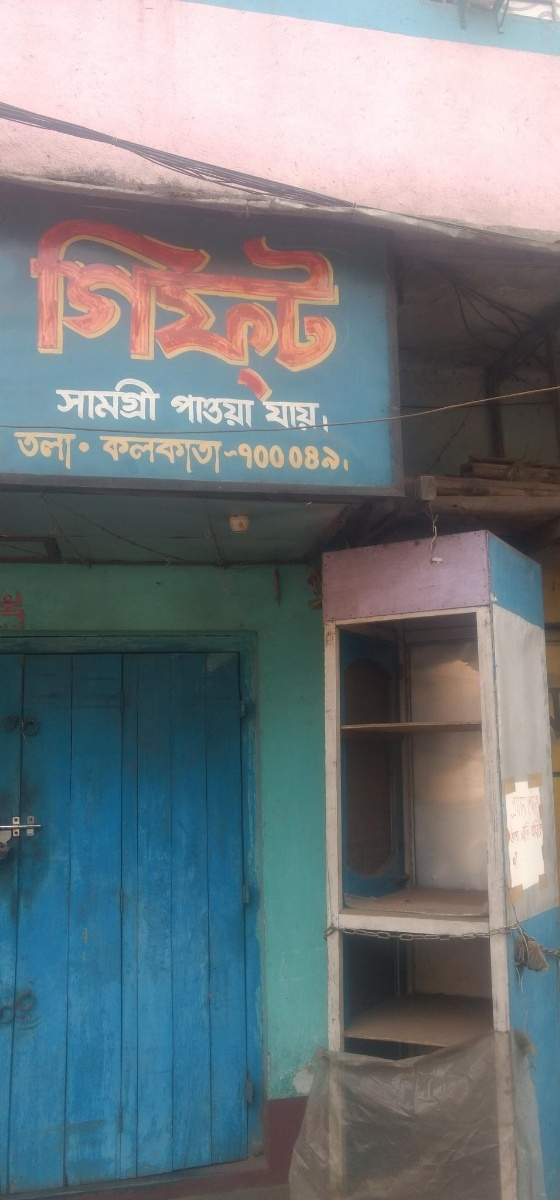text: (33, 211, 48, 410), (49, 211, 64, 410), (65, 211, 80, 410), (81, 211, 96, 410), (97, 211, 112, 410), (113, 211, 128, 410), (129, 211, 144, 410), (145, 211, 160, 410), (161, 211, 176, 410), (177, 211, 192, 410), (193, 211, 208, 410), (209, 211, 224, 410), (225, 211, 240, 410), (241, 211, 256, 410), (257, 211, 272, 410), (273, 211, 288, 410), (289, 211, 304, 410), (305, 211, 320, 410), (321, 211, 336, 410), (337, 211, 345, 410), (529, 792, 545, 878), (513, 792, 528, 878), (26, 211, 32, 410), (65, 373, 80, 427), (81, 373, 96, 427), (97, 373, 112, 427), (113, 373, 128, 427), (129, 373, 144, 427), (145, 373, 160, 427), (113, 433, 128, 477), (129, 433, 144, 477), (145, 433, 160, 477), (161, 433, 176, 477), (177, 433, 192, 477), (193, 433, 208, 477), (209, 433, 224, 477), (98, 433, 112, 477), (225, 433, 239, 477), (177, 391, 192, 431), (193, 391, 208, 431), (209, 391, 224, 431), (225, 391, 240, 431), (241, 391, 256, 431), (17, 431, 32, 471), (33, 431, 48, 471), (49, 431, 64, 471), (53, 373, 64, 427), (273, 400, 288, 436), (289, 400, 304, 436), (305, 400, 320, 436), (65, 431, 78, 471), (506, 792, 512, 878), (241, 441, 256, 471), (257, 441, 272, 471), (289, 445, 304, 475), (305, 445, 320, 475), (321, 445, 336, 475), (273, 441, 287, 471), (337, 445, 351, 475), (262, 400, 272, 436), (321, 400, 331, 436), (169, 391, 176, 431), (13, 431, 16, 471), (238, 441, 240, 471), (161, 373, 162, 427), (257, 391, 258, 431)
